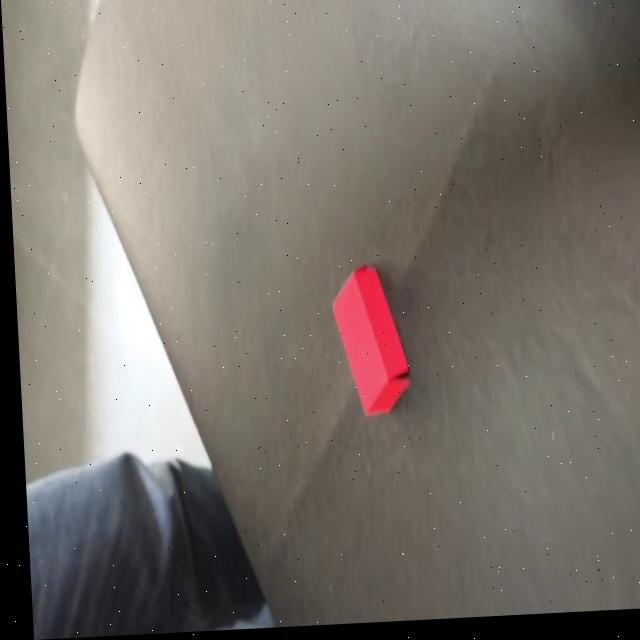red block: (328, 261, 412, 418)
